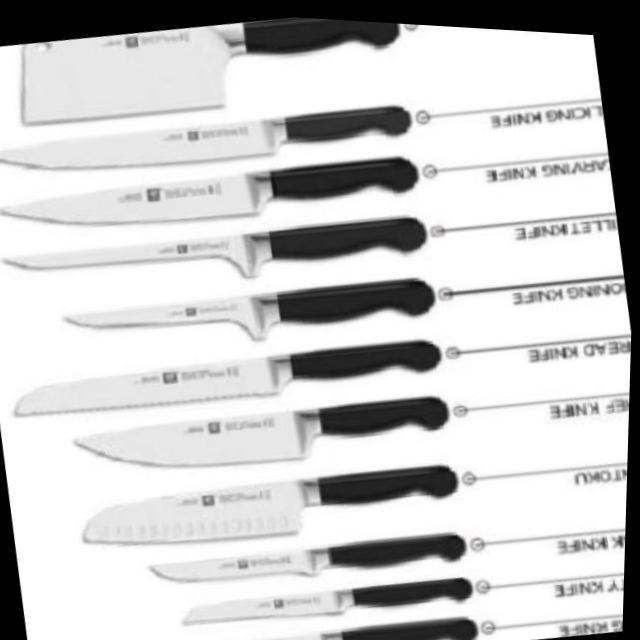weapon: (0, 187, 432, 321), (9, 310, 447, 440), (9, 1, 407, 144), (0, 129, 423, 260), (78, 437, 468, 572), (0, 77, 415, 202), (72, 369, 455, 496), (62, 250, 440, 374), (150, 508, 472, 602), (182, 555, 476, 640), (187, 594, 482, 640)
